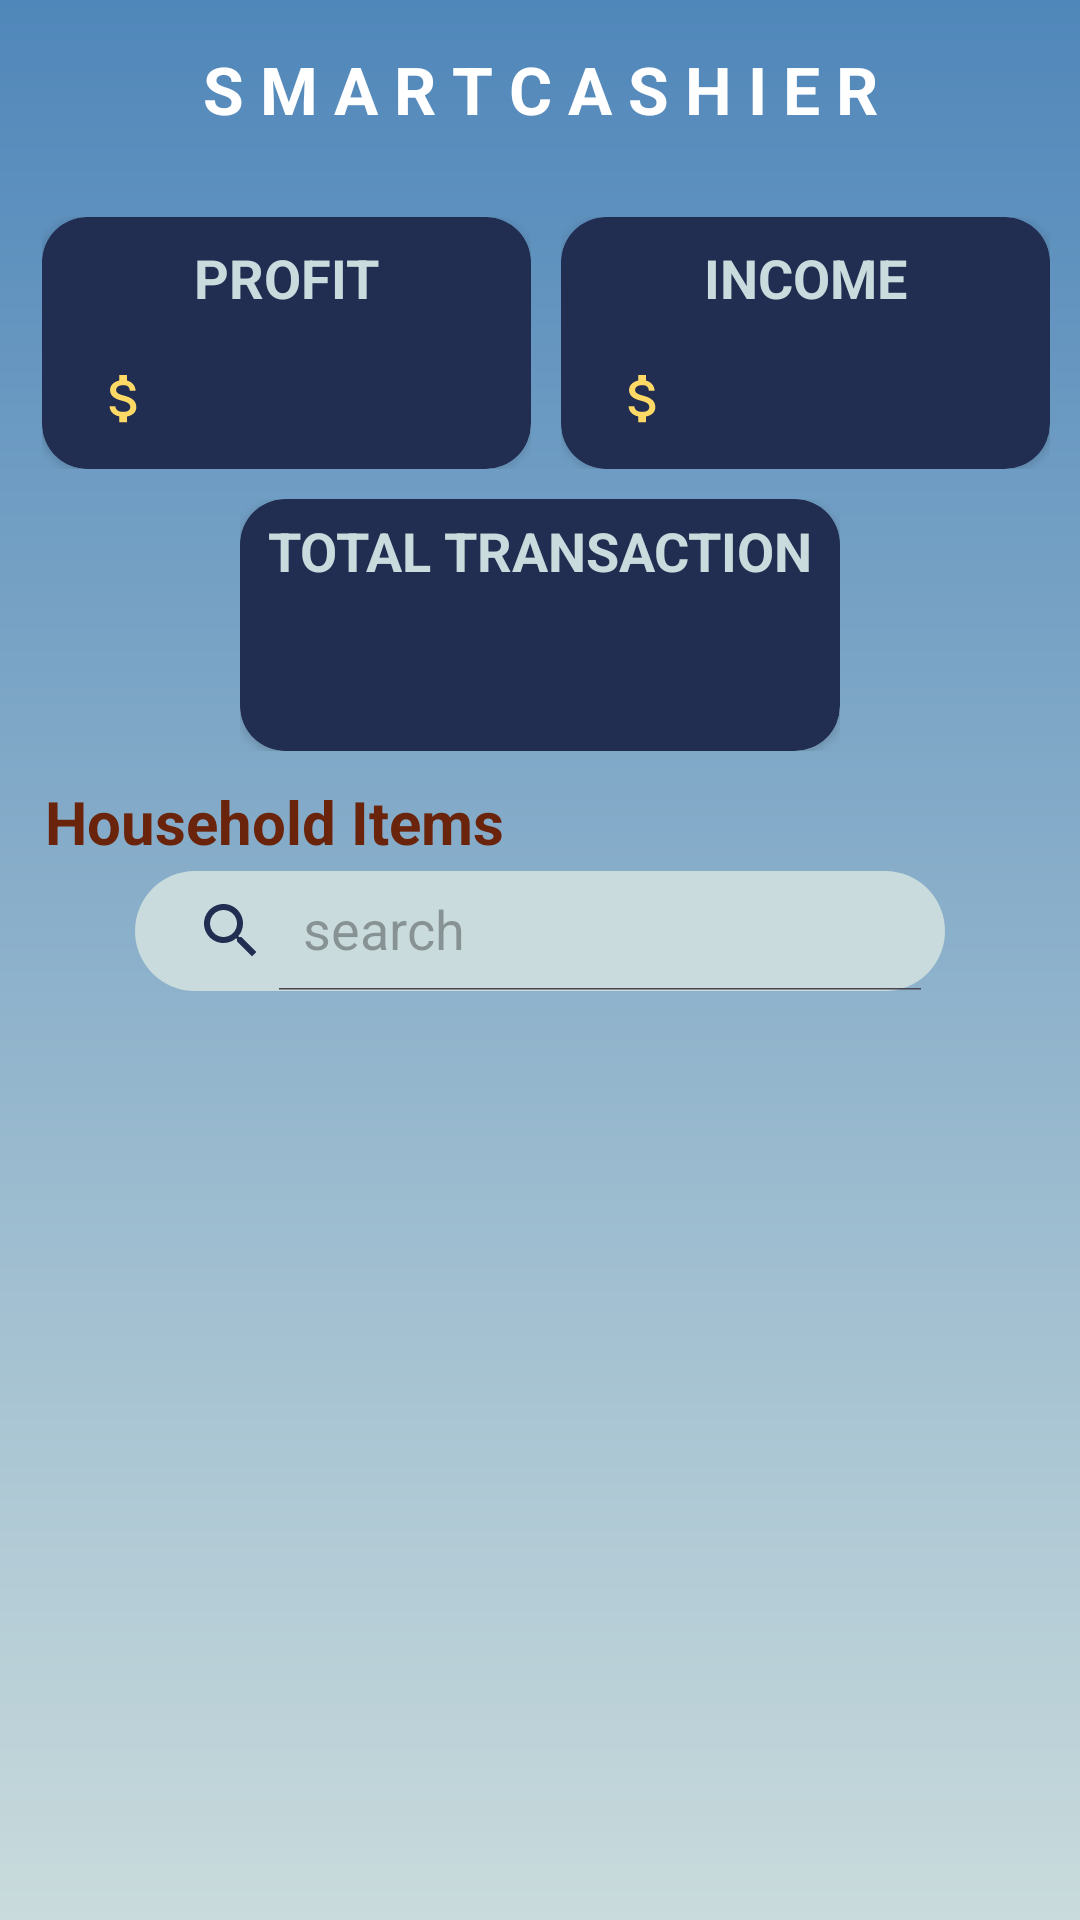

Locate icon controls on the screen. Image size 1080x1920, boxes as (x1, y1, x2, y2).
money: (109, 375, 137, 423), (628, 375, 656, 423)
